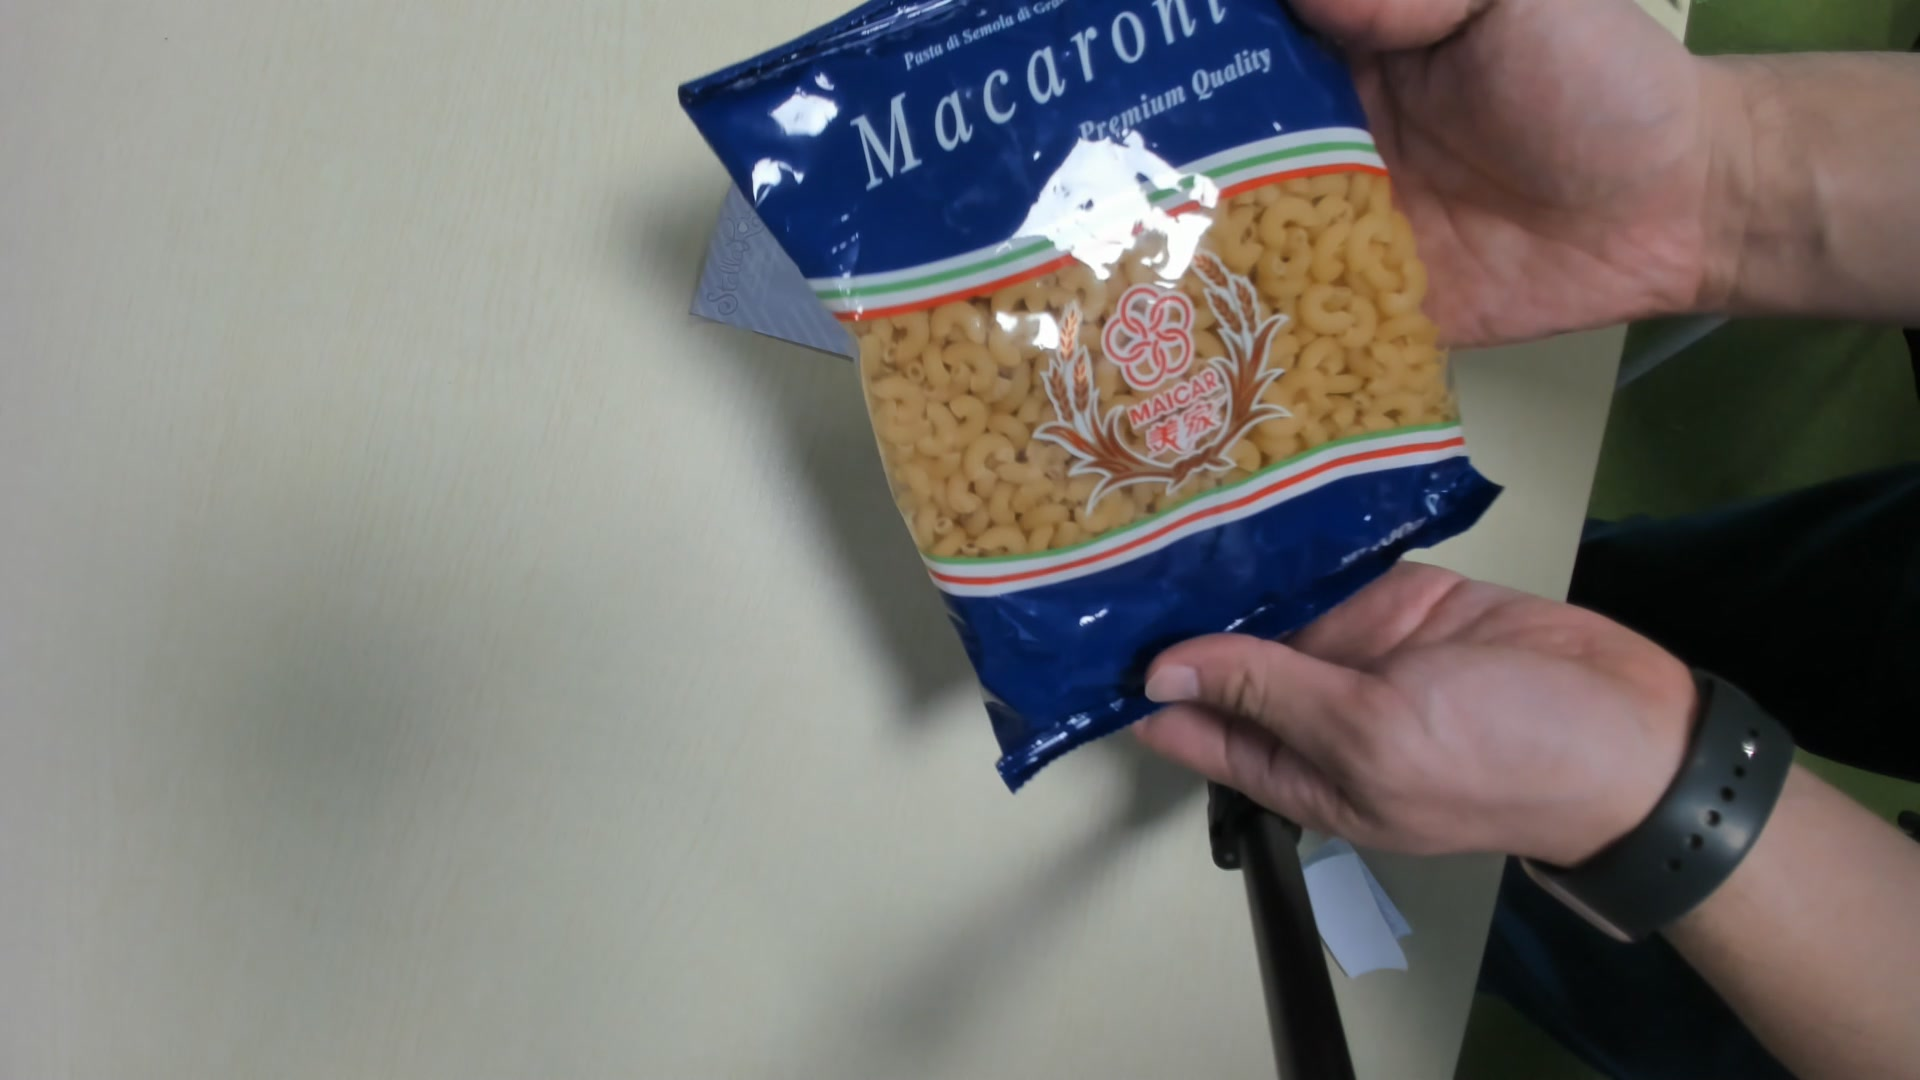Pasta_400-499g_Halal_NonHealthy: (683, 3, 1487, 775)
